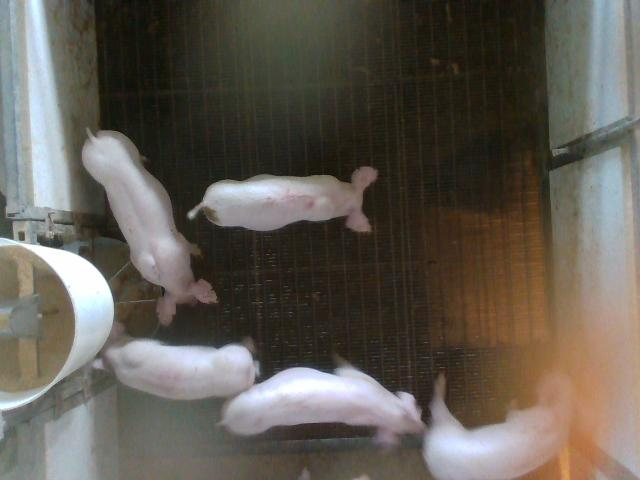pig-4: (102, 323, 259, 399)
pig-5: (188, 166, 378, 232)
